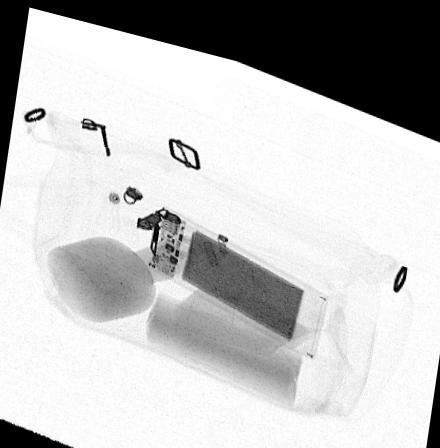Powerbank: (147, 197, 328, 344)
